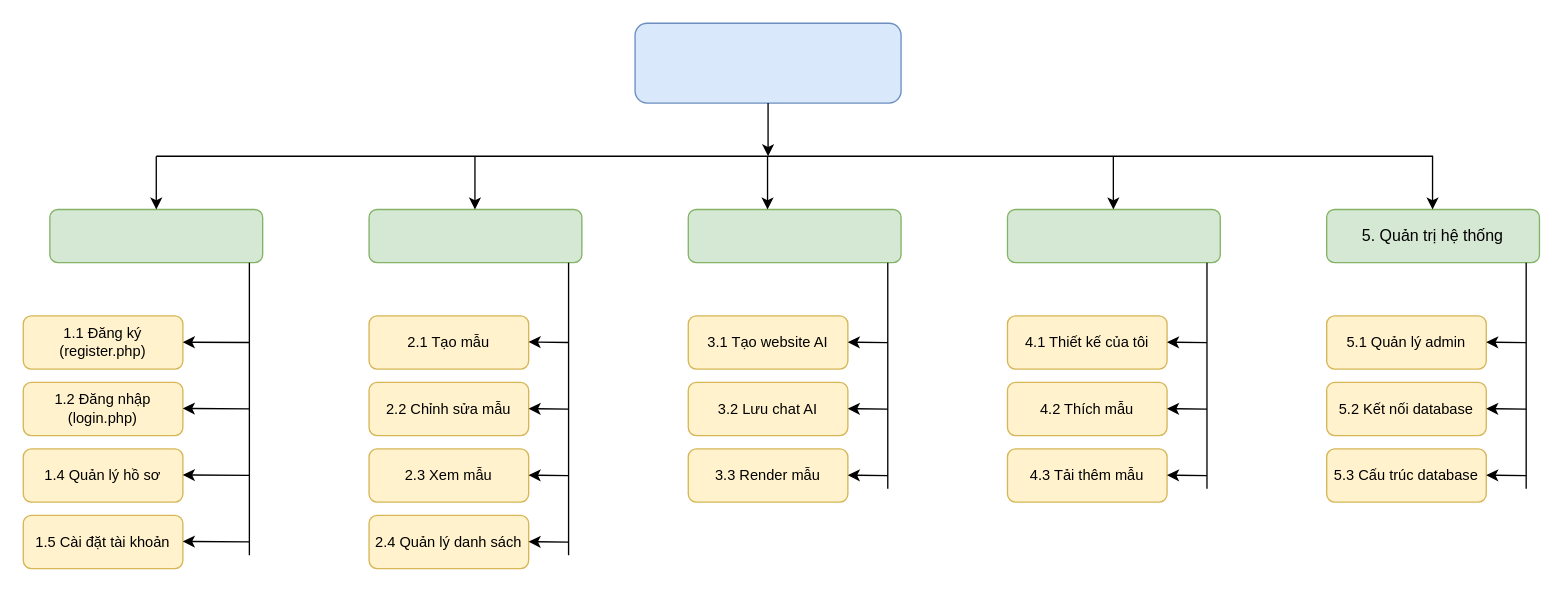
The diagram is 1563 pixels wide and 592 high, and some of its shapes have lost their labels. The centre of each missing label's shape, as x and y in pixels:
"1. Quản lý người dùng" belongs at (156,235).
"2. Quản lý mẫu website" belongs at (475,235).
"3. Thiết kế website AI" belongs at (794,235).
"4. Tương tác cộng đồng" belongs at (1113,235).
"Website Builder Community" belongs at (767,62).
